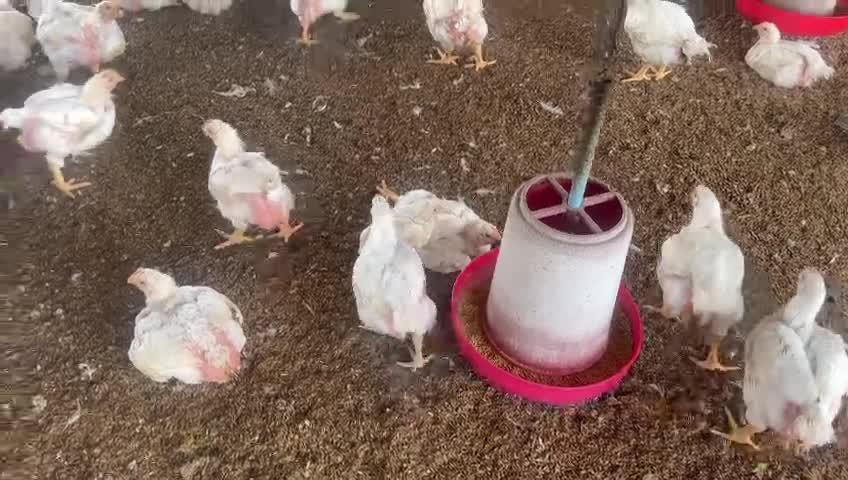AbNormal: (128, 265, 245, 381), (375, 179, 501, 256), (746, 23, 835, 88)
Normal: (715, 266, 848, 451), (659, 184, 747, 371), (10, 69, 126, 200), (205, 119, 300, 251)
